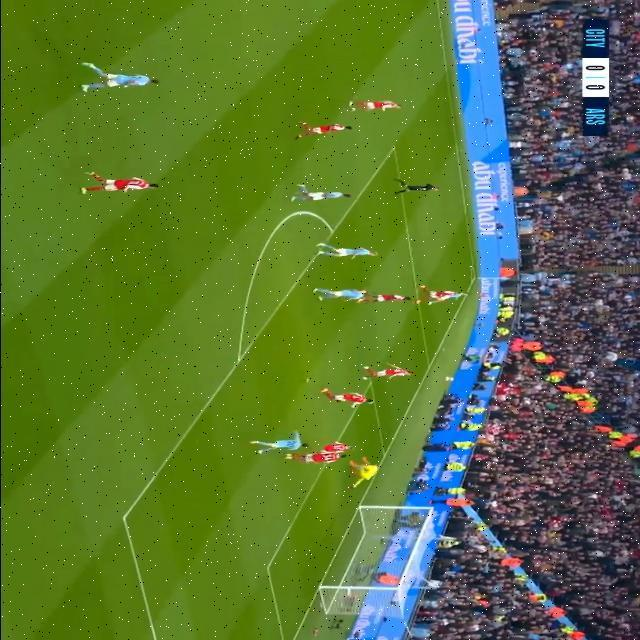goalkeeper: (343, 459, 393, 489)
player: (61, 63, 159, 105), (281, 118, 355, 146), (305, 241, 377, 266), (62, 176, 168, 192), (317, 278, 373, 307), (345, 94, 415, 117), (317, 388, 377, 413), (287, 184, 355, 206), (345, 360, 411, 382), (247, 434, 308, 456), (302, 438, 360, 460), (301, 453, 351, 469), (416, 291, 470, 305), (371, 294, 415, 305)
referee: (388, 179, 462, 201)
